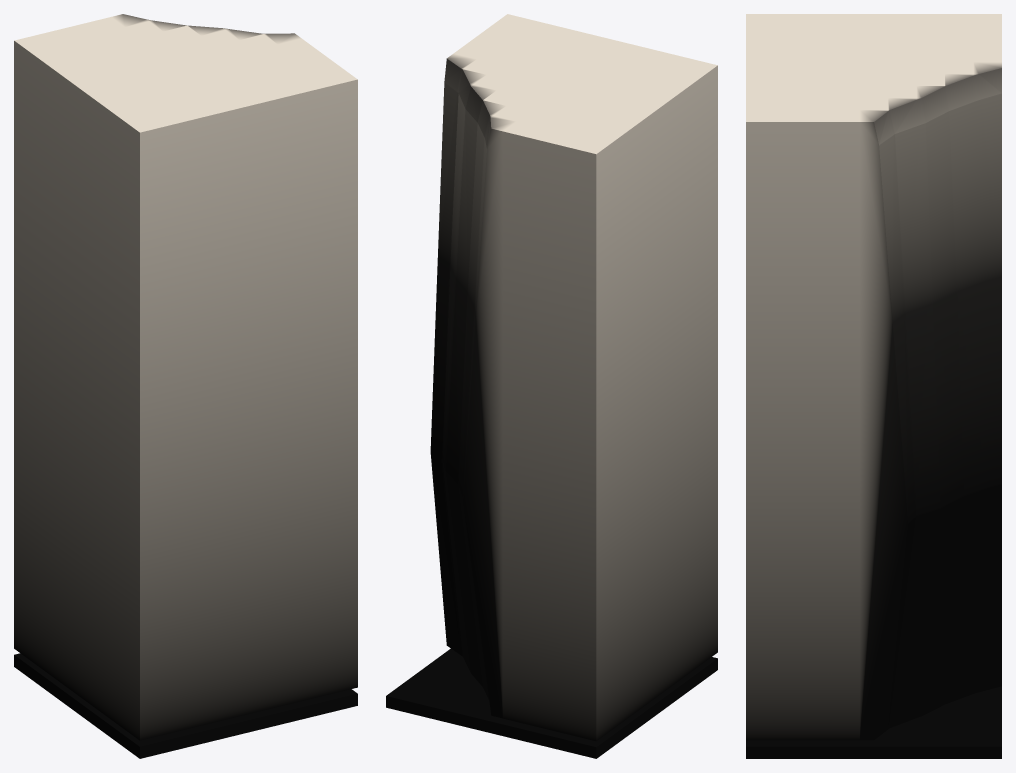
File: SM_VKI_Ground_Cave_OOXO_Q10.fbx
3 views of the same model, side by side, from view 1: azimuth 30°, elevation 25°; view 2: azimuth 150°, elevation 25°; view 3: azimuth 270°, elevation 25° (orthographic). The views are drawn at different scales.
Visible parts, largest first — view 1: SM_VKI_Ground_Cave_OOXO_Q10.001; view 2: SM_VKI_Ground_Cave_OOXO_Q10.001; view 3: SM_VKI_Ground_Cave_OOXO_Q10.001.
Boxes of the visible parts, x1,y1,x2,y2 form: SM_VKI_Ground_Cave_OOXO_Q10.001: (14, 14, 357, 758); SM_VKI_Ground_Cave_OOXO_Q10.001: (386, 14, 717, 758); SM_VKI_Ground_Cave_OOXO_Q10.001: (746, 14, 1001, 758).
Bounding box in the file's own units: 1.5 × 4.12 × 1.5.
